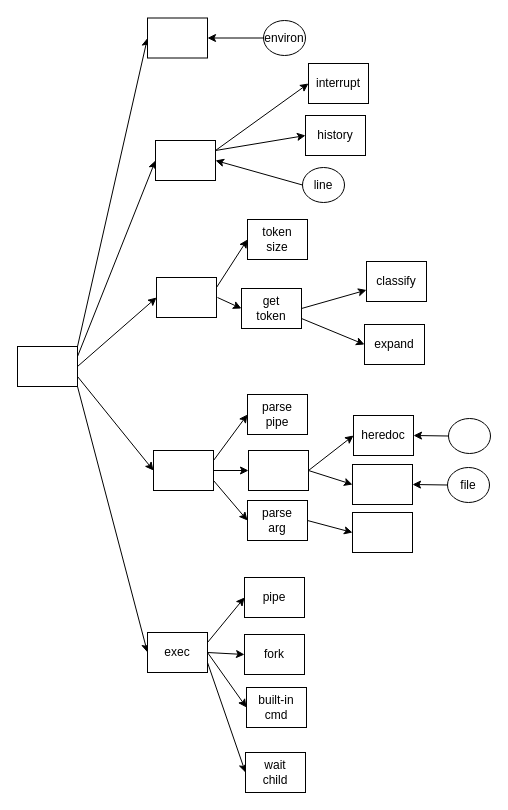
This 508x810 diagram has some shape labels left out. The centre of each missing label's shape, as x and y in pixels:
"initi" belongs at (x=177, y=37).
"lexer" belongs at (x=186, y=297).
"lines" belongs at (x=469, y=436).
"main" belongs at (x=47, y=366).
"open file" belongs at (x=382, y=484).
"parse redirect" belongs at (x=278, y=470).
"parser" belongs at (x=183, y=470).
"readline" belongs at (x=185, y=160).
"test path" belongs at (x=382, y=532).
